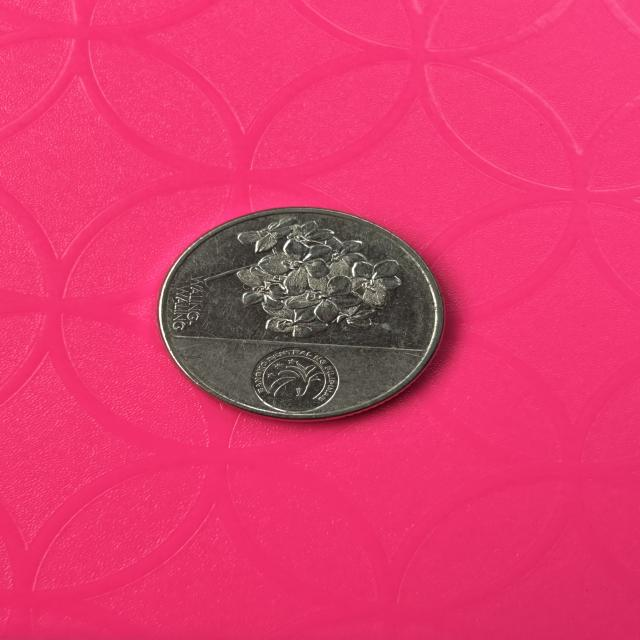1_New_Back: (239, 226, 397, 337)
